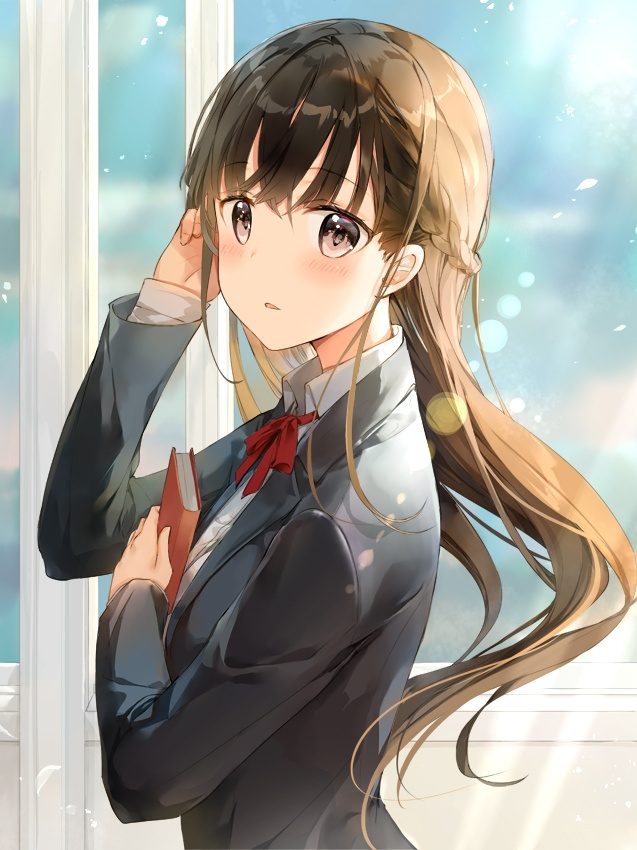纸片人正脸: (187, 8, 500, 359)
